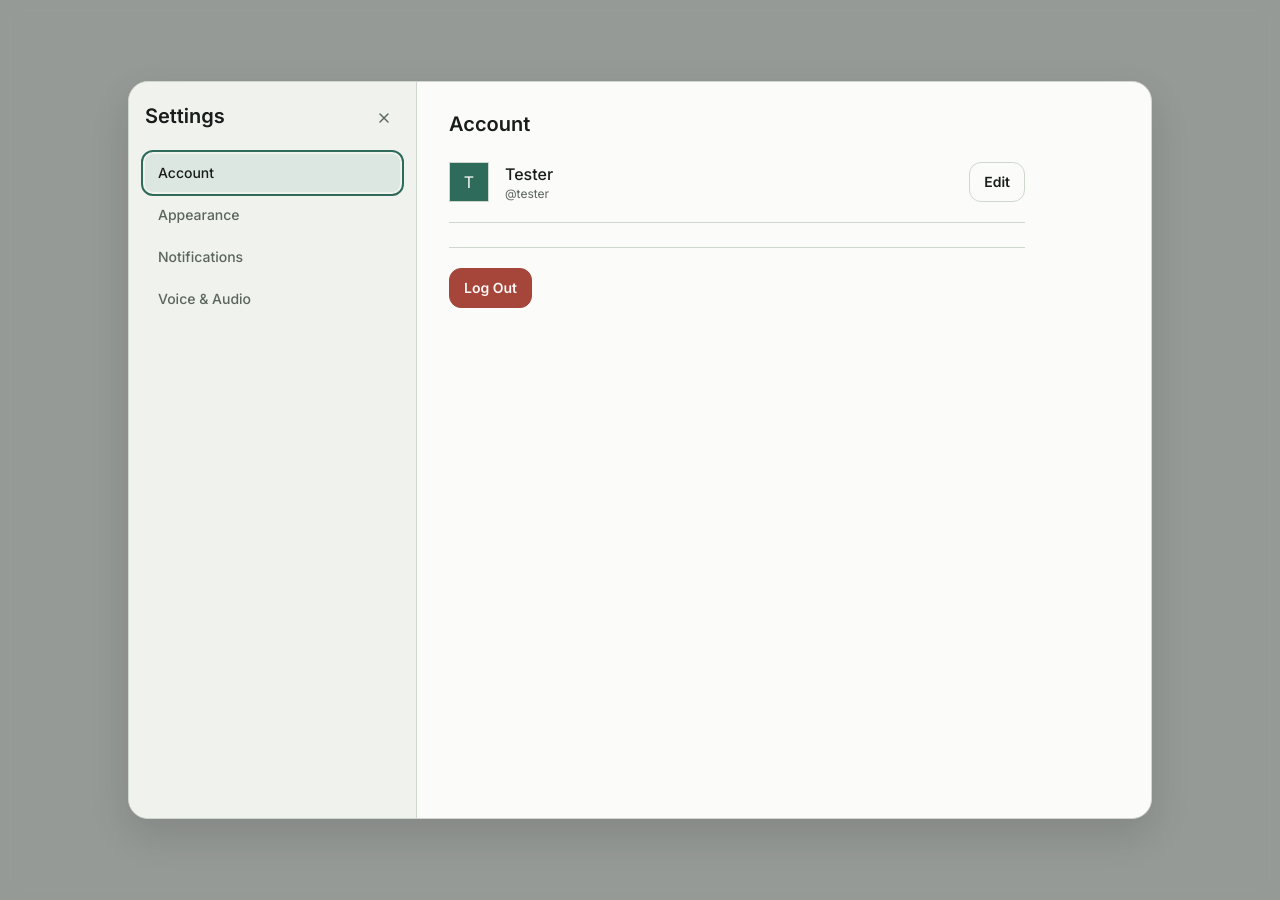
Scenario: SettingsPage audio settings › surfaces microphone permission errors from explicit actions
Step 1. Click the tab "Voice & Audio" → coordinates (272, 299), box [145,280,400,318]
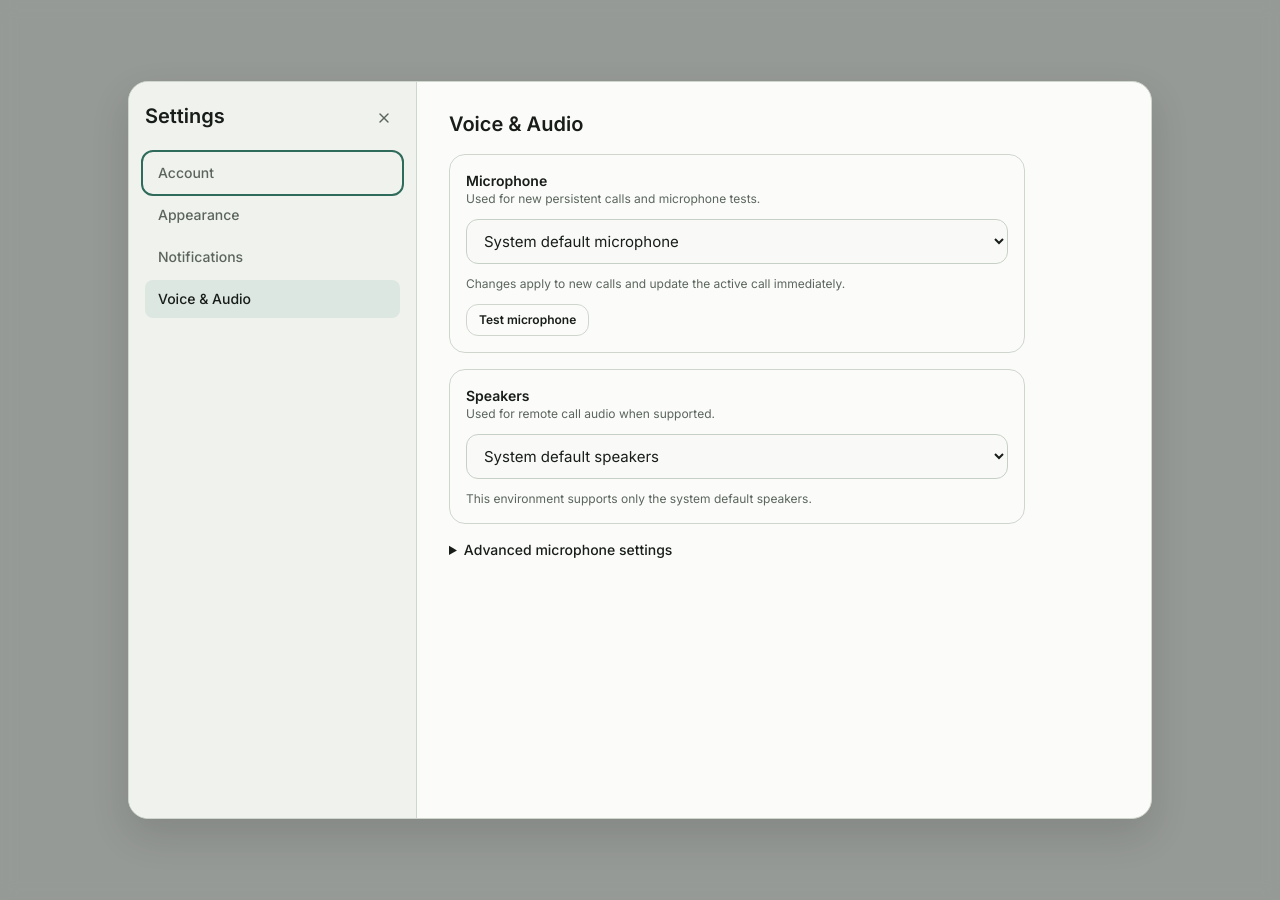
Step 2. Click the button "Test microphone" → coordinates (528, 320), box [466,304,589,336]
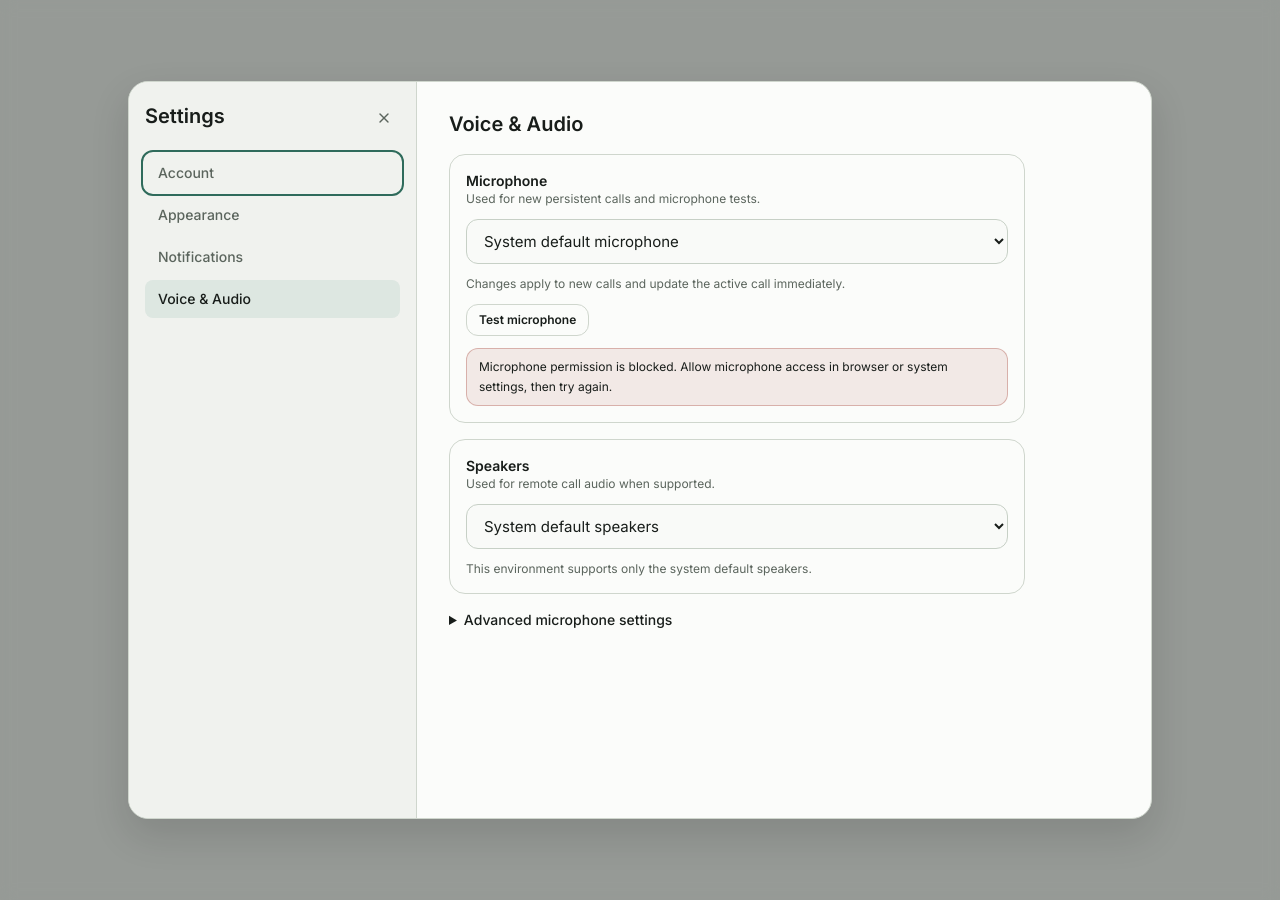
Now the message with test id "settings-audio-feedback" shows "Microphone permission is blocked", box [479,359,948,394]
